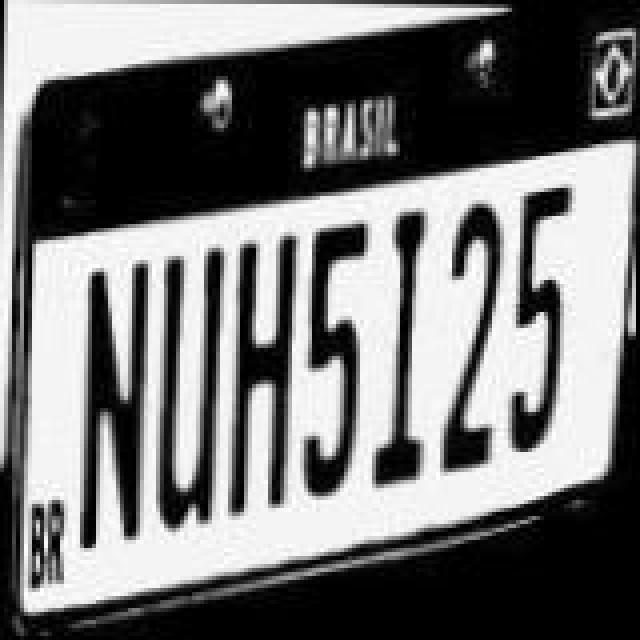2: (436, 178, 516, 462)
5: (302, 200, 378, 484), (512, 170, 584, 438)
H: (228, 218, 308, 506)
I: (372, 188, 444, 476)
N: (78, 246, 158, 554)
U: (150, 230, 230, 530)
